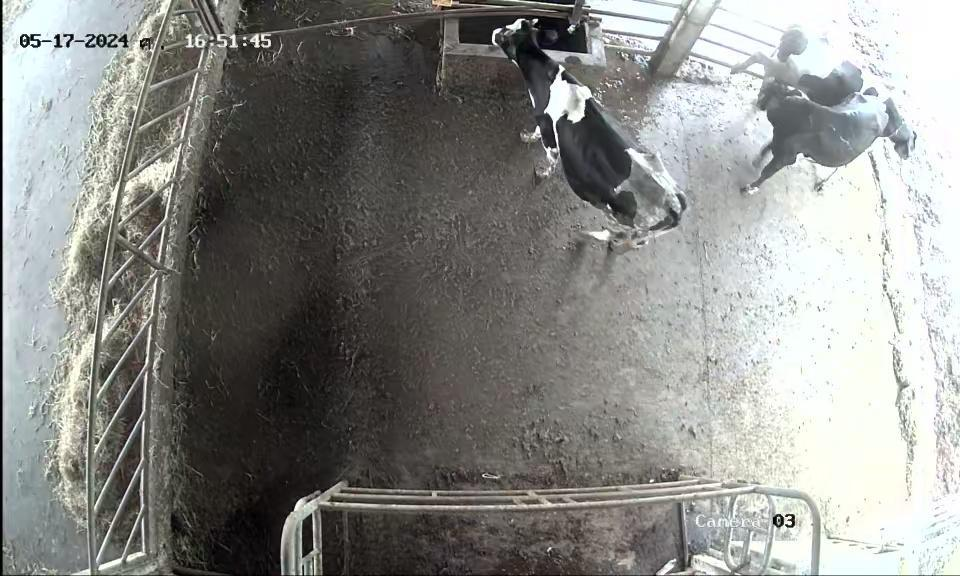drink: (477, 4, 553, 92)
stand: (752, 79, 922, 202)
